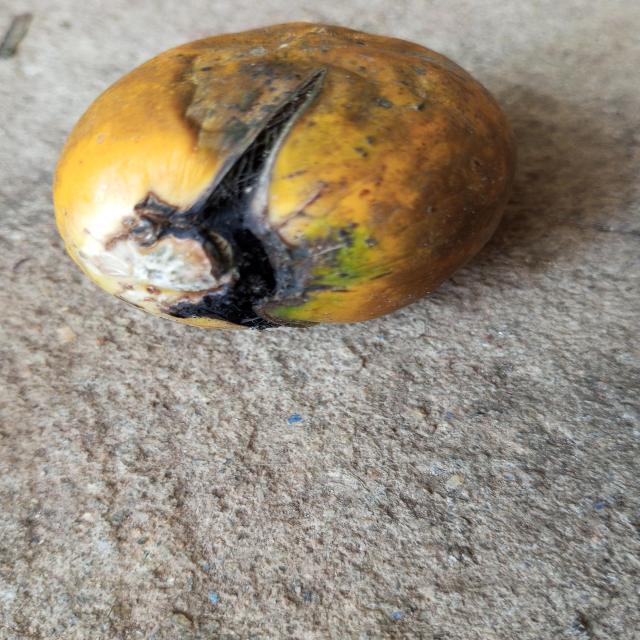damaged: (51, 22, 516, 330)
